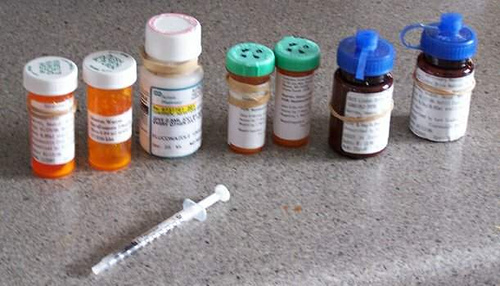pill bottle: (400, 12, 480, 147), (139, 9, 205, 164), (327, 27, 398, 163), (21, 52, 80, 180), (81, 46, 136, 176), (225, 38, 277, 160), (272, 32, 323, 153)
